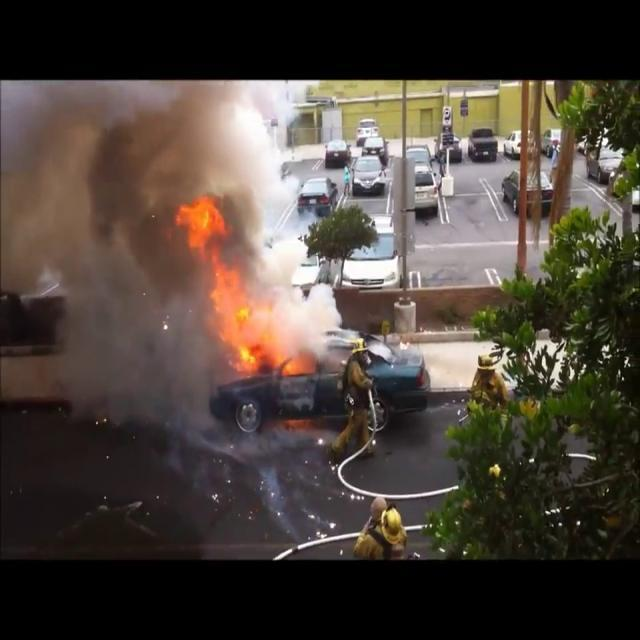Fire: (176, 190, 266, 372)
Smoke: (0, 81, 314, 408)
